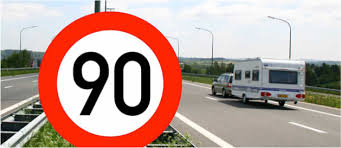Speed_limit_90km: (38, 12, 182, 147)
